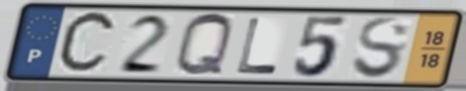2: (111, 14, 175, 75)
5: (292, 14, 353, 81)
C: (54, 8, 121, 78)
L: (234, 16, 281, 76)
Q: (172, 11, 236, 80)
S: (350, 15, 413, 82)
